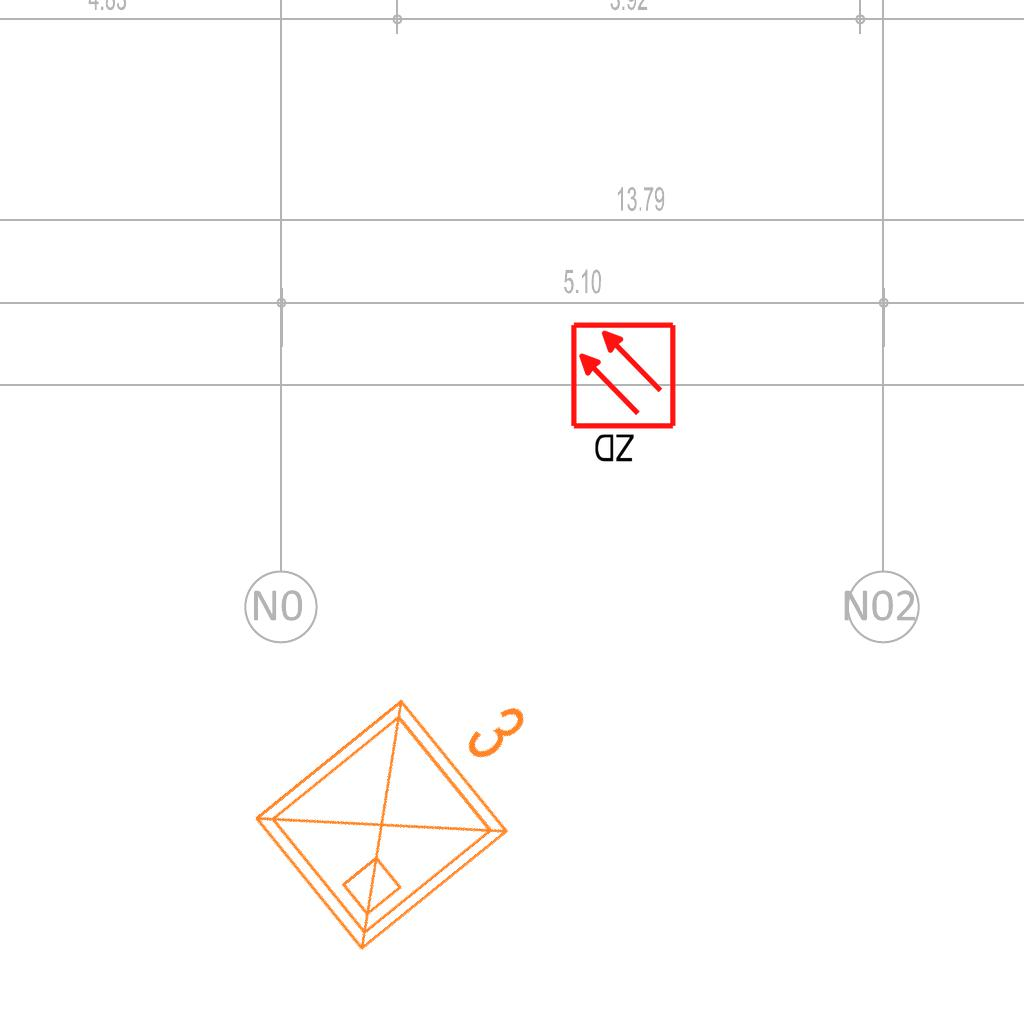Einbaudownlights_LED_Konferenzraeume: (228, 620, 594, 972)
ZD_Melder_in_Zwischendecke_mit_Revisionsoeffnung_mind_40_x_40_cm: (568, 320, 682, 469)
